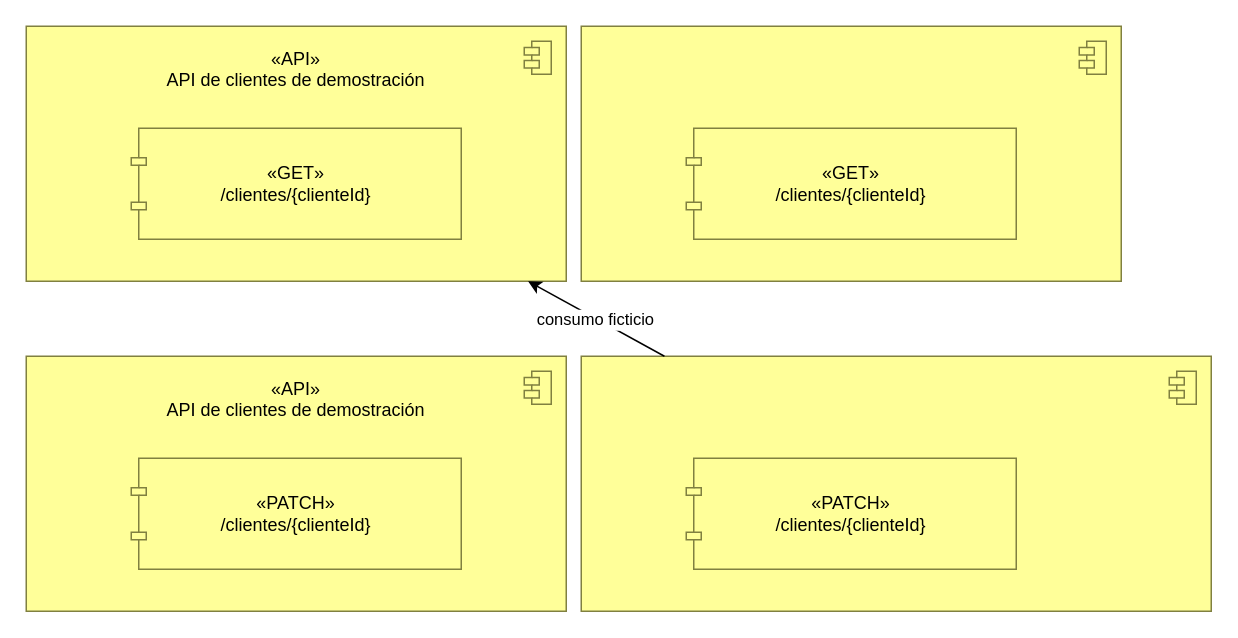
Some shapes in this 1238 by 638 pixel diagram are drawn without their labels. Here are the shapes that lost their labels. From the top down, the box of each, then its label:
(580, 25, 1121, 281): «API» API de ofertas de demostración
(580, 355, 1211, 611): «API» API de clientes de demostración Validación ficticia del canal
